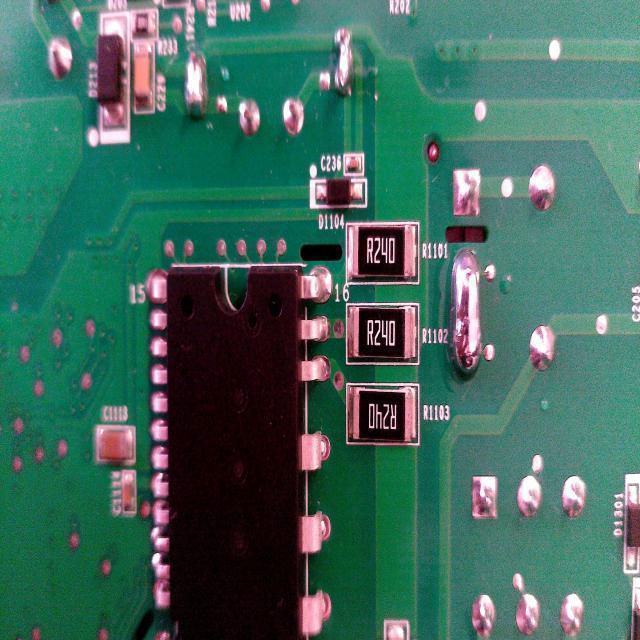Soldering shorted: (447, 245, 487, 390), (329, 18, 358, 112), (183, 44, 211, 128)
